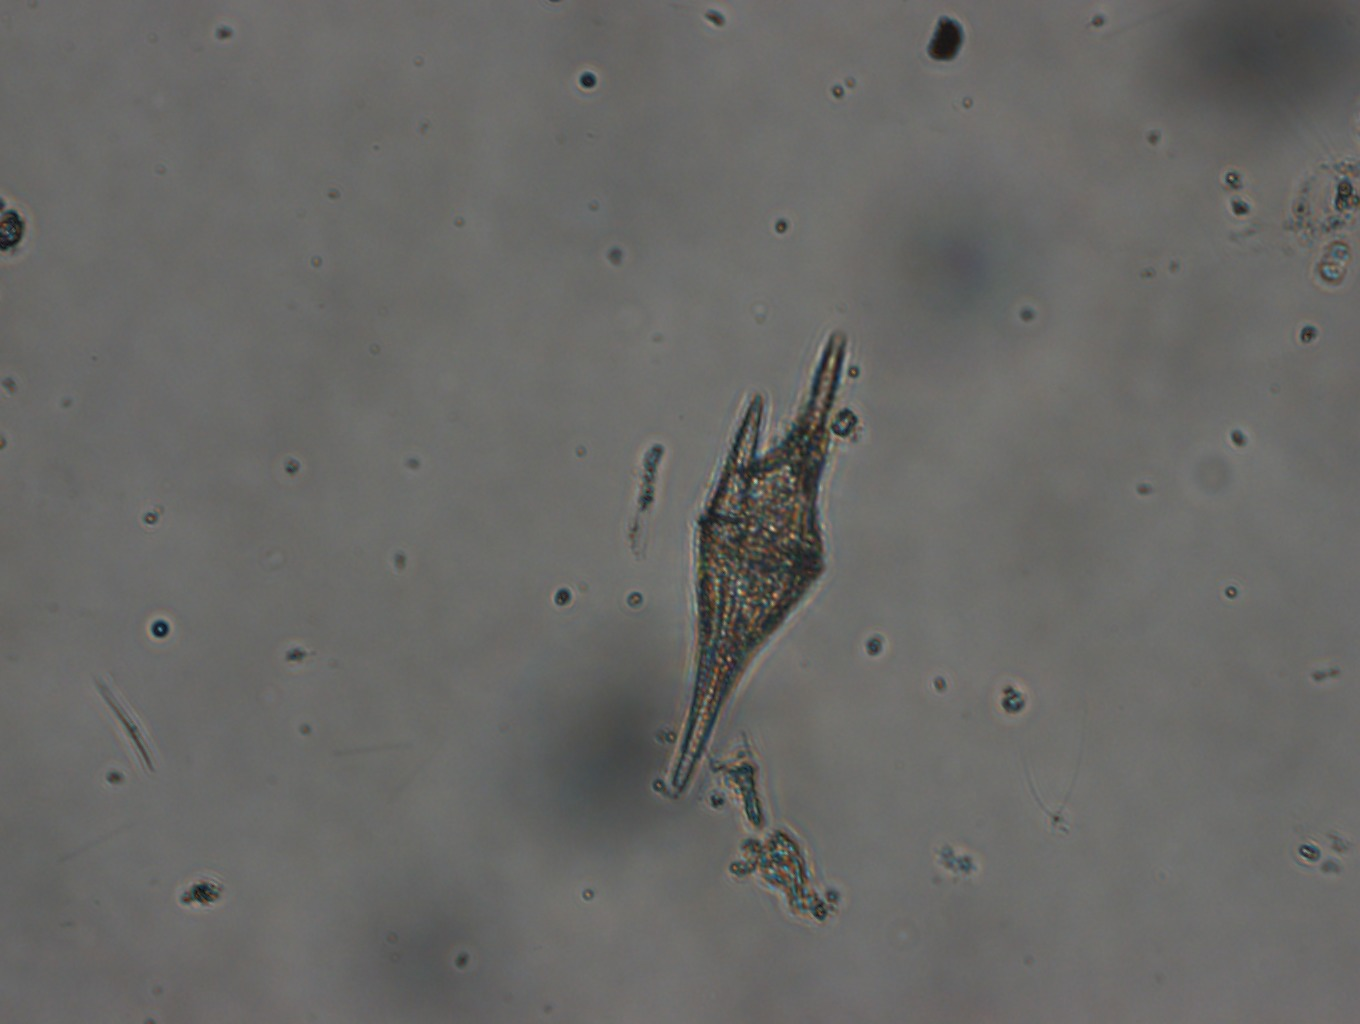ceratium furca: (665, 330, 847, 794)
